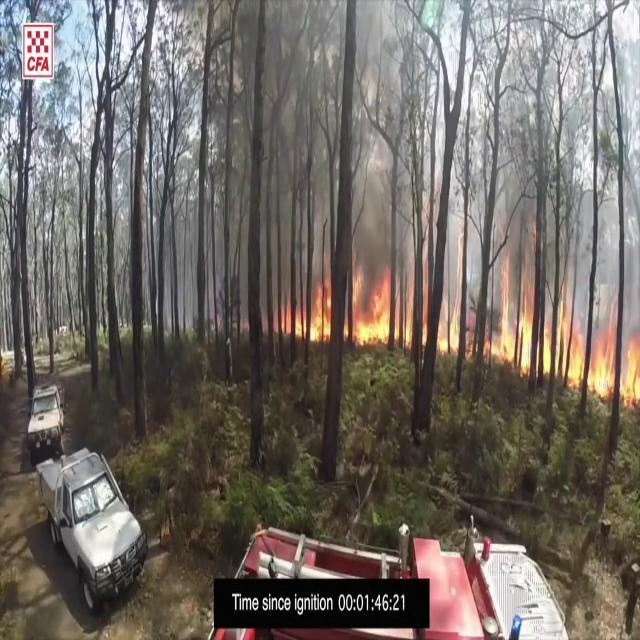Fire: (292, 247, 414, 349), (569, 315, 640, 411)
Smoke: (202, 9, 449, 253), (477, 72, 598, 295)
